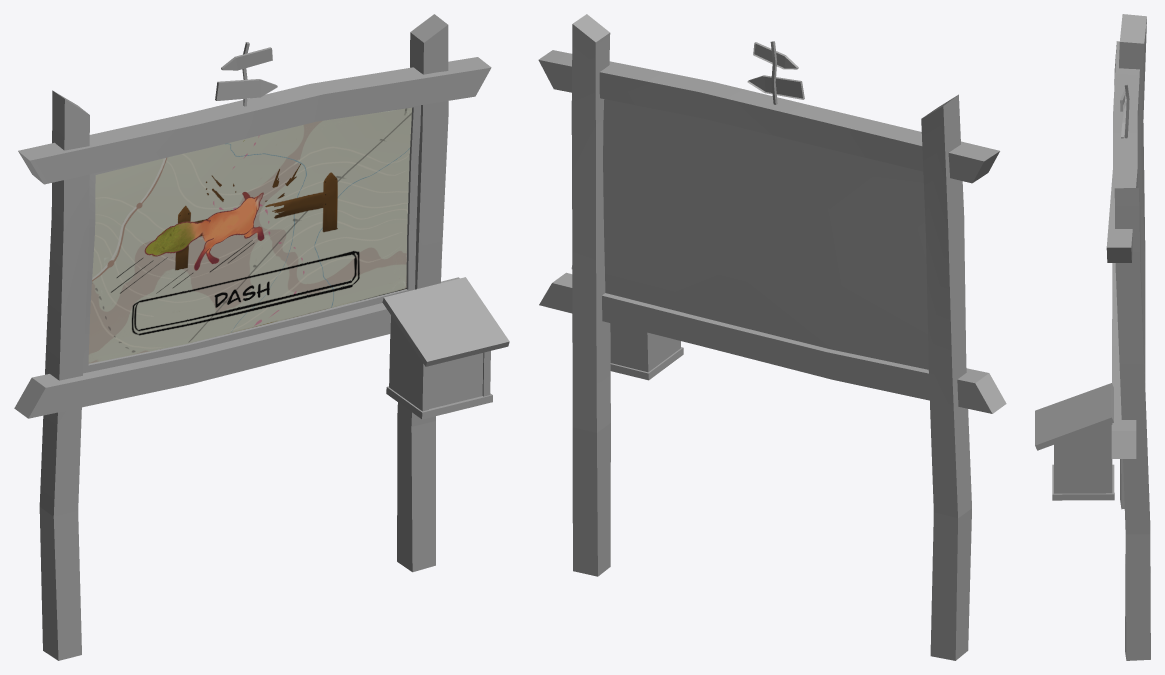
The model's file is Post_small_dash_2.fbx.
3 views of the same model, side by side, from view 1: azimuth 30°, elevation 25°; view 2: azimuth 150°, elevation 25°; view 3: azimuth 270°, elevation 25° (orthographic). The views are drawn at different scales.
Visible parts, largest first — view 1: Post_Small; view 2: Post_Small; view 3: Post_Small.
Part boxes in pixels (x1,y1,x2,y2): Post_Small: (14, 14, 509, 660); Post_Small: (538, 14, 1006, 660); Post_Small: (1035, 14, 1150, 660).
Size of the model in its own units: 4.77 by 5.63 by 1.19.
Materials: 2 (1 with a texture image).
